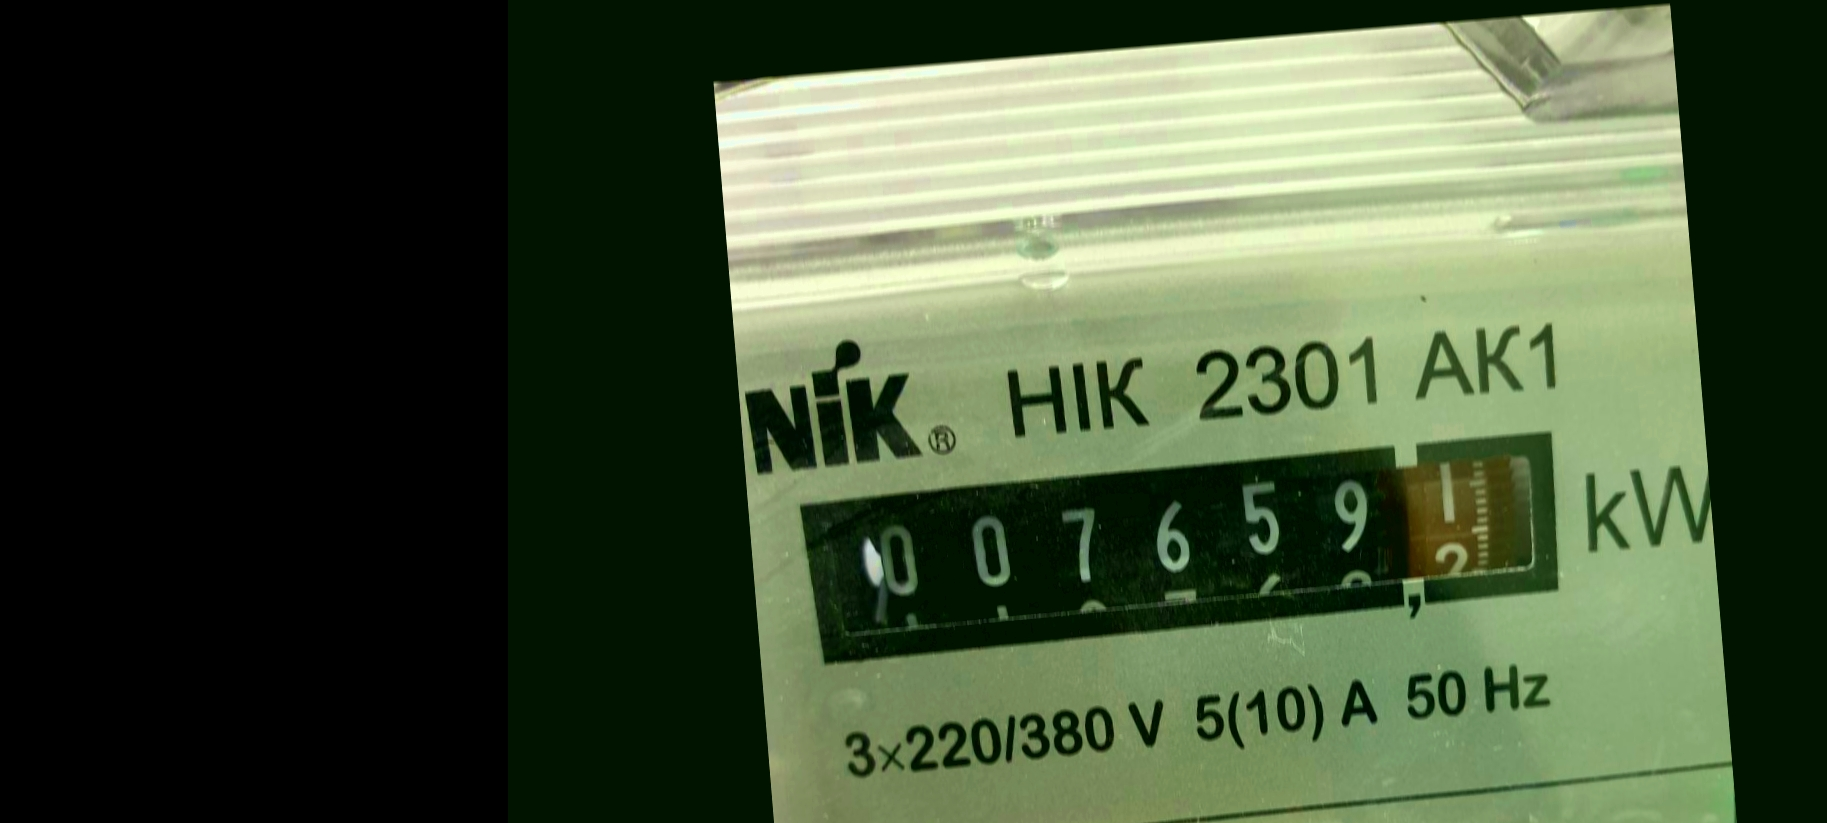0: (958, 504, 1021, 595), (870, 512, 927, 606)
1: (1429, 453, 1469, 530)
5: (1234, 474, 1288, 560)
6: (1142, 490, 1200, 577)
7: (1056, 500, 1103, 588)
9: (1327, 470, 1376, 561)
screen: (778, 408, 1587, 685)
